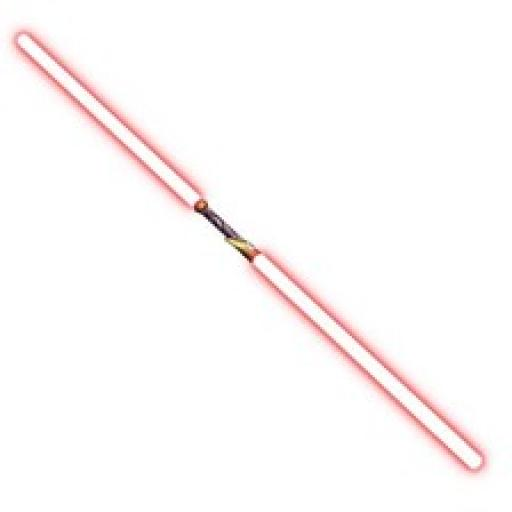sith saber: (16, 32, 486, 473)
